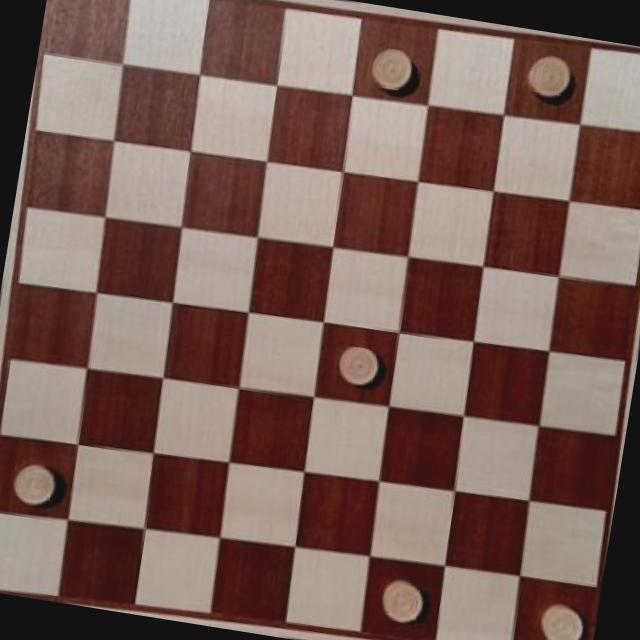BOARD: (0, 0, 640, 640)
white: (5, 453, 60, 512), (521, 50, 579, 104), (332, 334, 384, 390), (362, 42, 419, 92), (376, 577, 428, 626), (532, 598, 589, 640)
